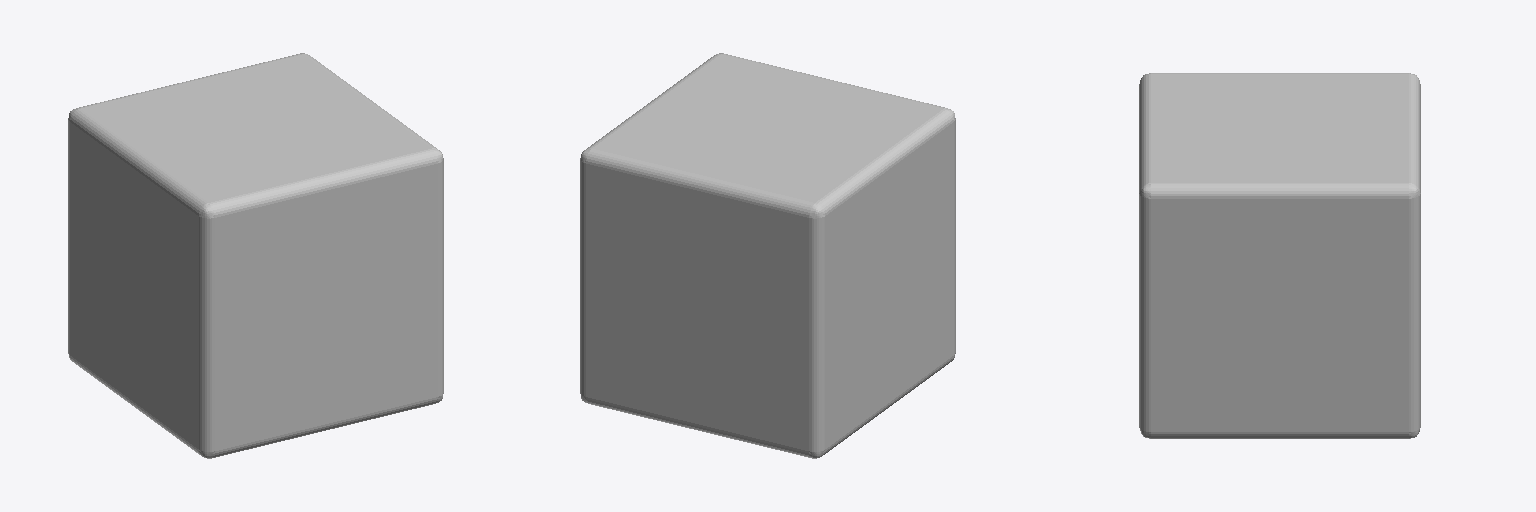
File: roundedCube.obj
The picture shows the model from 3 angles: view 1: azimuth 30°, elevation 25°; view 2: azimuth 150°, elevation 25°; view 3: azimuth 270°, elevation 25°; orthographic projection.
Parts seen in each view (by area): view 1: cube_cube_Material.001; view 2: cube_cube_Material.001; view 3: cube_cube_Material.001.
Boxes of the visible parts, box(x1,y1,x2,y2) form: cube_cube_Material.001: box(68, 53, 443, 458); cube_cube_Material.001: box(580, 53, 955, 458); cube_cube_Material.001: box(1139, 73, 1420, 438).
Size of the model in its own units: 5.06 by 5.06 by 5.06.